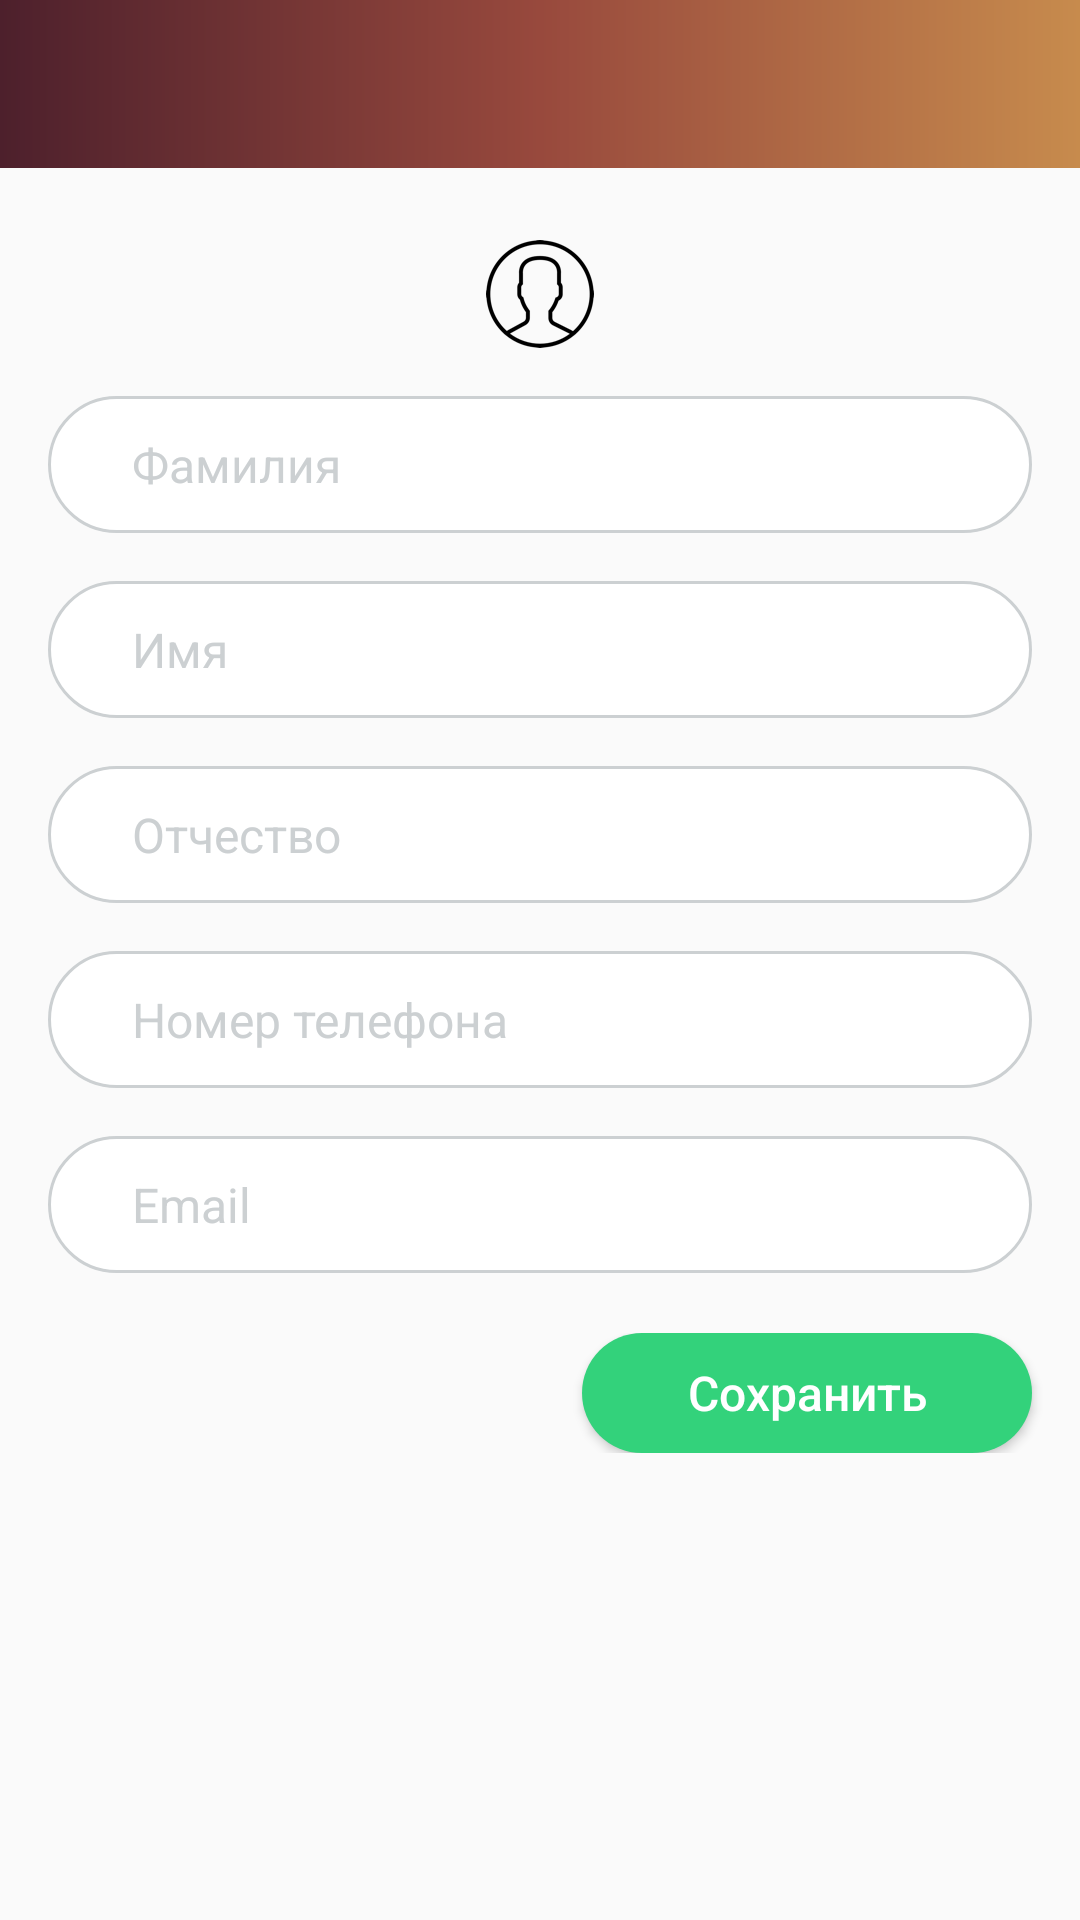

Screen size 1080*1920. Icon name, then its box in pixels as (x1, y1, x2, y2):
user: (486, 240, 594, 348)
